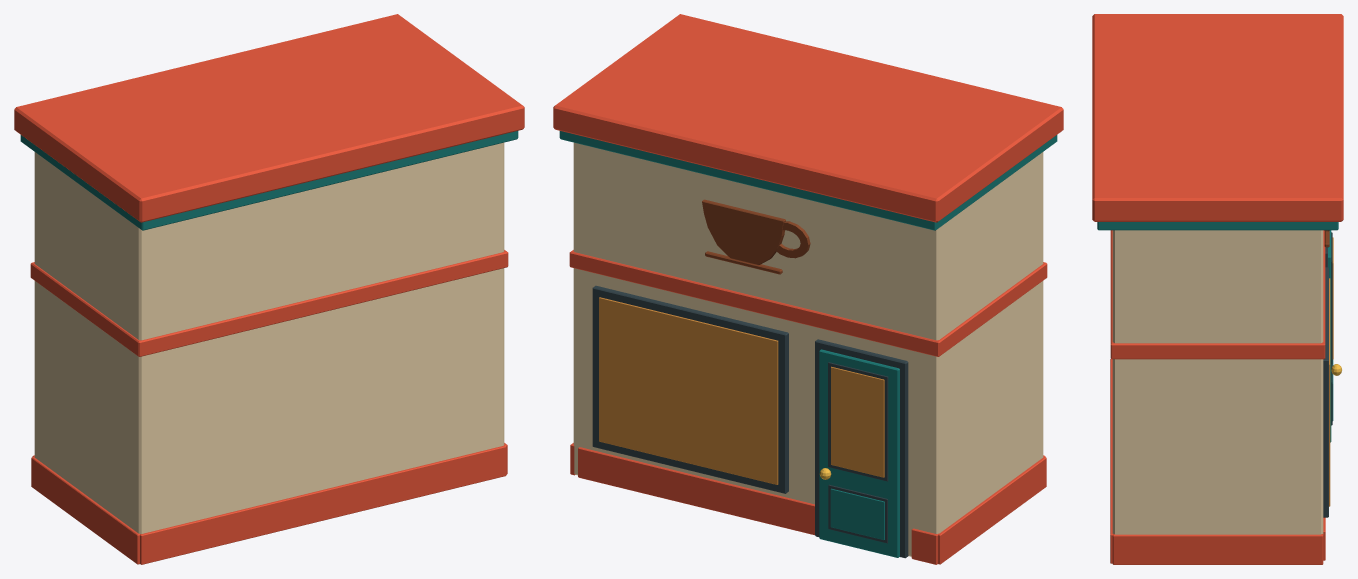
The model's file is cafe.glb.
3 views of the same model, side by side, from view 1: azimuth 30°, elevation 25°; view 2: azimuth 150°, elevation 25°; view 3: azimuth 270°, elevation 25° (orthographic).
Parts seen in each view (by area): view 1: Building Shell, Roof, Plinth Back, Facade Band, Roof Underside Trim, Plinth Right; view 2: Building Shell, Roof, Window Panel, Facade Band, Plinth Front Left, Door, Window Frame, Door Window, Roof Underside Trim, Cup Emblem, Door Surround, Plinth Right (+5 smaller); view 3: Building Shell, Roof, Plinth Left, Facade Band, Roof Underside Trim, Window Frame, Plinth Back, Door, Window Panel.
Boxes of the visible parts, <box> form: Building Shell: <box>34,142,504,533</box>; Roof: <box>14,14,524,222</box>; Plinth Back: <box>140,445,506,564</box>; Facade Band: <box>30,250,508,356</box>; Roof Underside Trim: <box>20,131,518,230</box>; Plinth Right: <box>31,456,139,564</box>; Building Shell: <box>573,142,1043,556</box>; Roof: <box>553,14,1063,222</box>; Window Panel: <box>599,297,778,484</box>; Facade Band: <box>569,250,1047,356</box>; Plinth Front Left: <box>578,447,814,535</box>; Door: <box>819,349,899,557</box>; Window Frame: <box>592,285,788,493</box>; Door Window: <box>831,366,884,477</box>; Roof Underside Trim: <box>559,131,1057,230</box>; Cup Emblem: <box>702,199,785,264</box>; Door Surround: <box>815,339,908,558</box>; Plinth Right: <box>938,456,1046,564</box>; Building Shell: <box>1112,230,1323,534</box>; Roof: <box>1092,14,1343,221</box>; Plinth Left: <box>1112,534,1323,564</box>; Facade Band: <box>1110,230,1325,359</box>; Roof Underside Trim: <box>1097,222,1338,230</box>; Window Frame: <box>1323,267,1328,517</box>; Plinth Back: <box>1110,359,1113,563</box>; Door: <box>1328,230,1331,442</box>; Window Panel: <box>1329,278,1330,506</box>.
Bounding box in the file's own units: 7 × 6.5 × 4.
